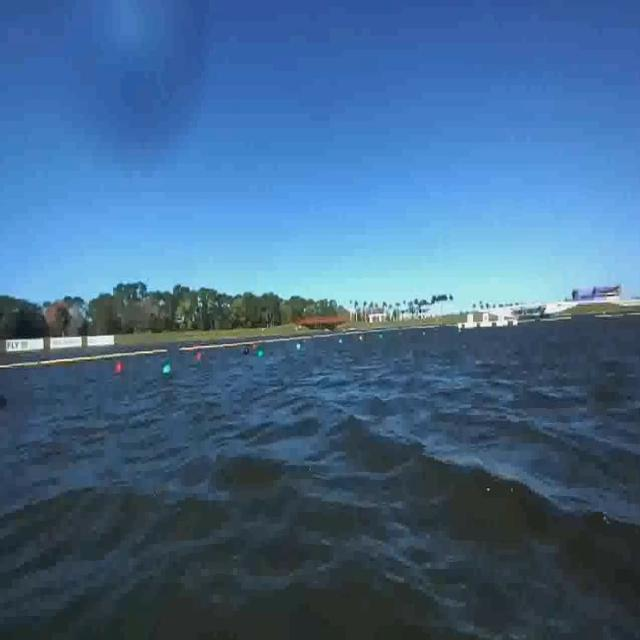green-buoy: (162, 362, 171, 381)
red-buoy: (110, 362, 127, 377)
